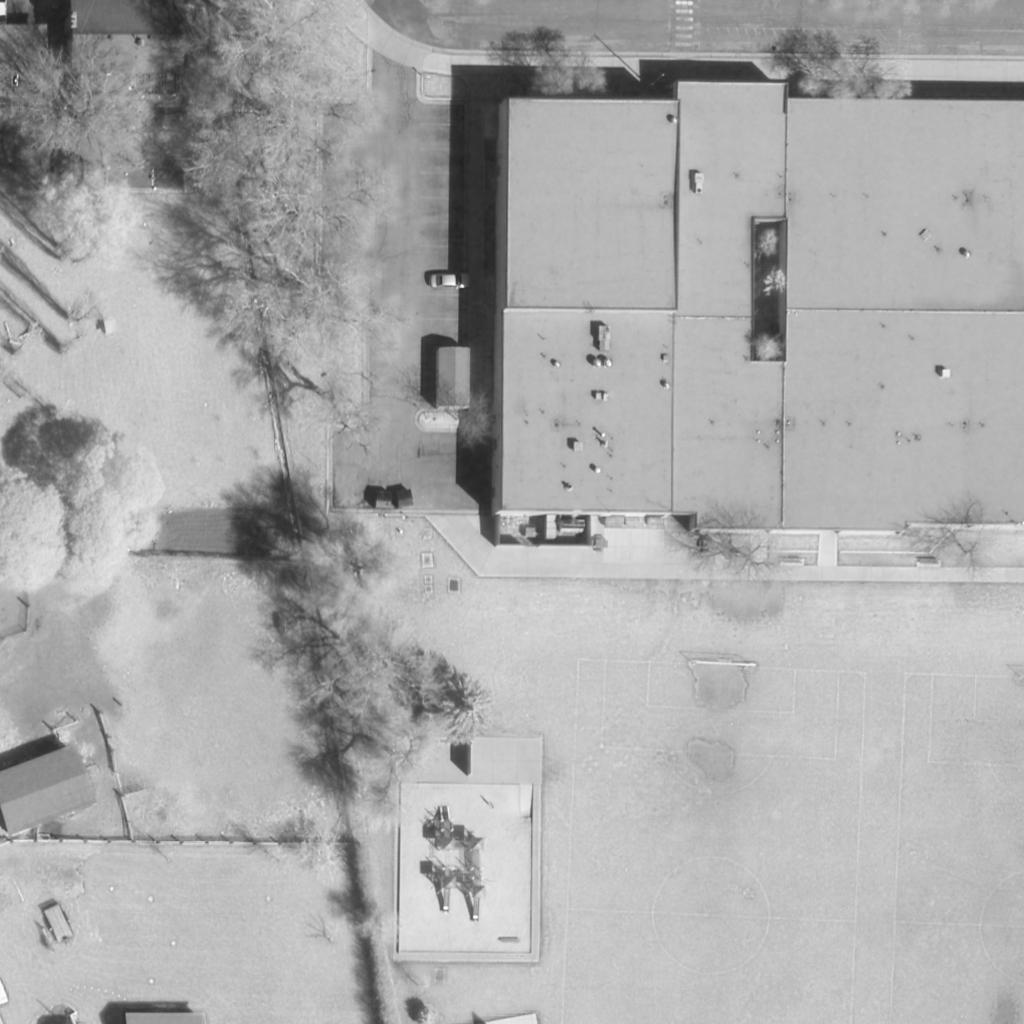vehicle: (430, 273, 472, 289)
